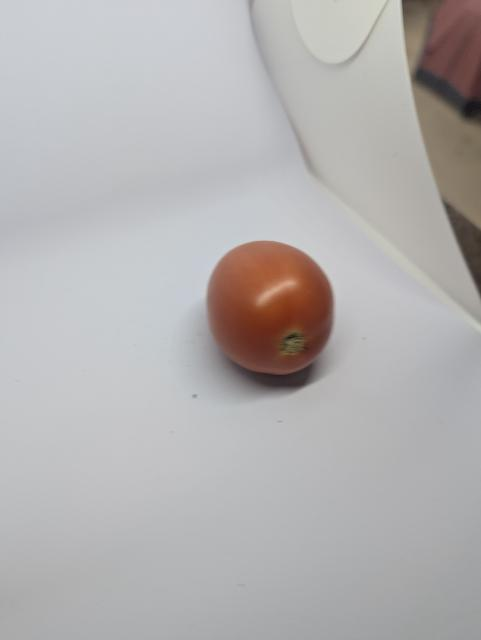red: (181, 226, 352, 395)
